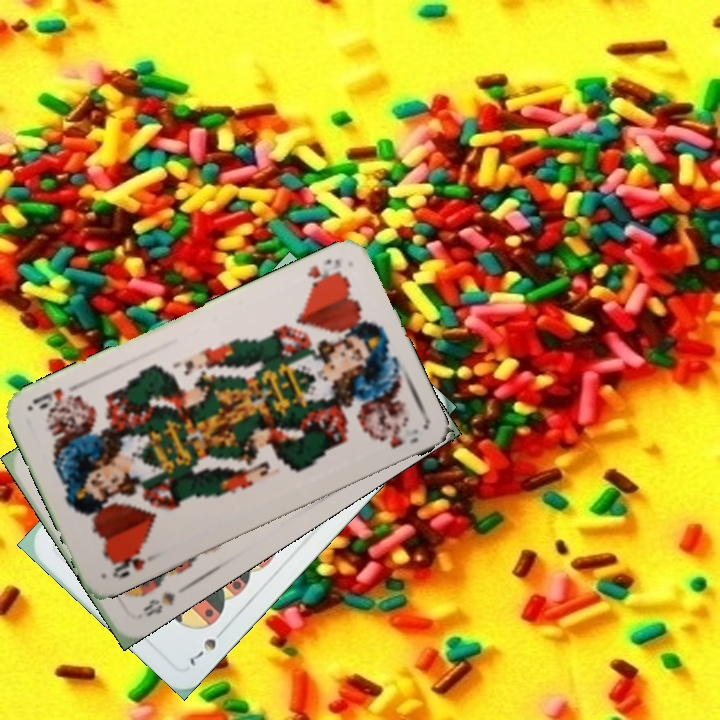HO: (107, 544, 148, 582), (303, 254, 344, 291)
S7: (185, 622, 230, 669)
S8: (139, 587, 178, 620)
